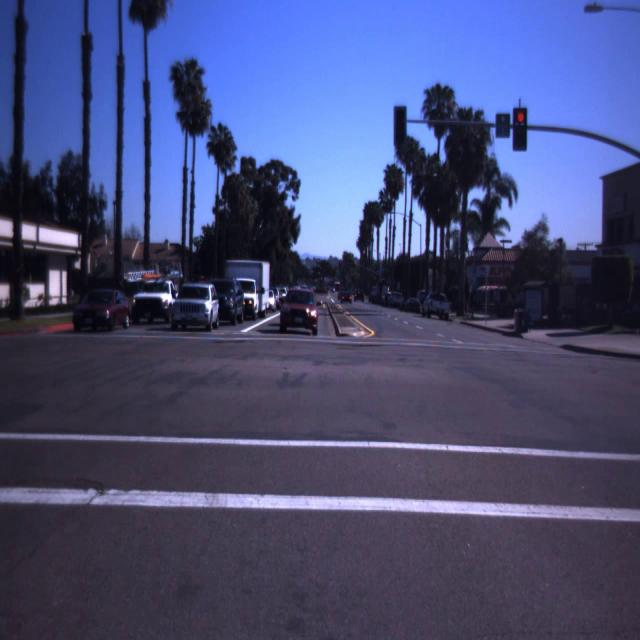stop: (518, 114, 523, 121)
stop traffic light: (513, 110, 528, 143)
